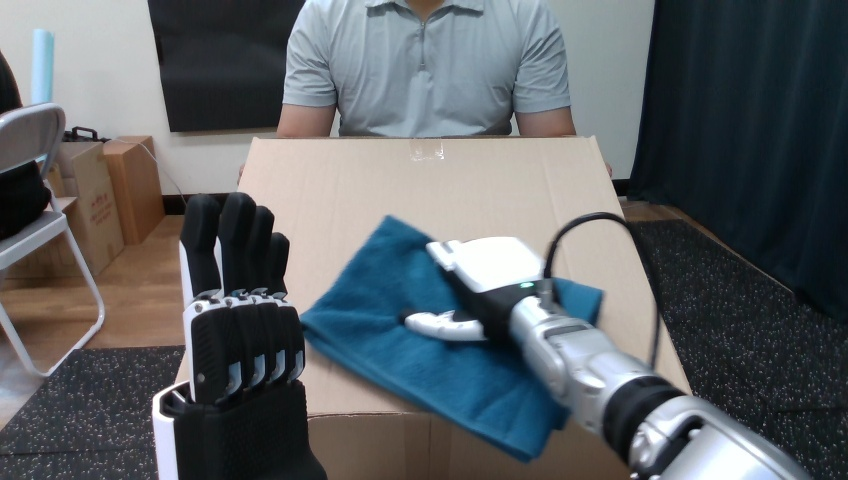left robot hand: (403, 213, 808, 479), (153, 192, 325, 478)
